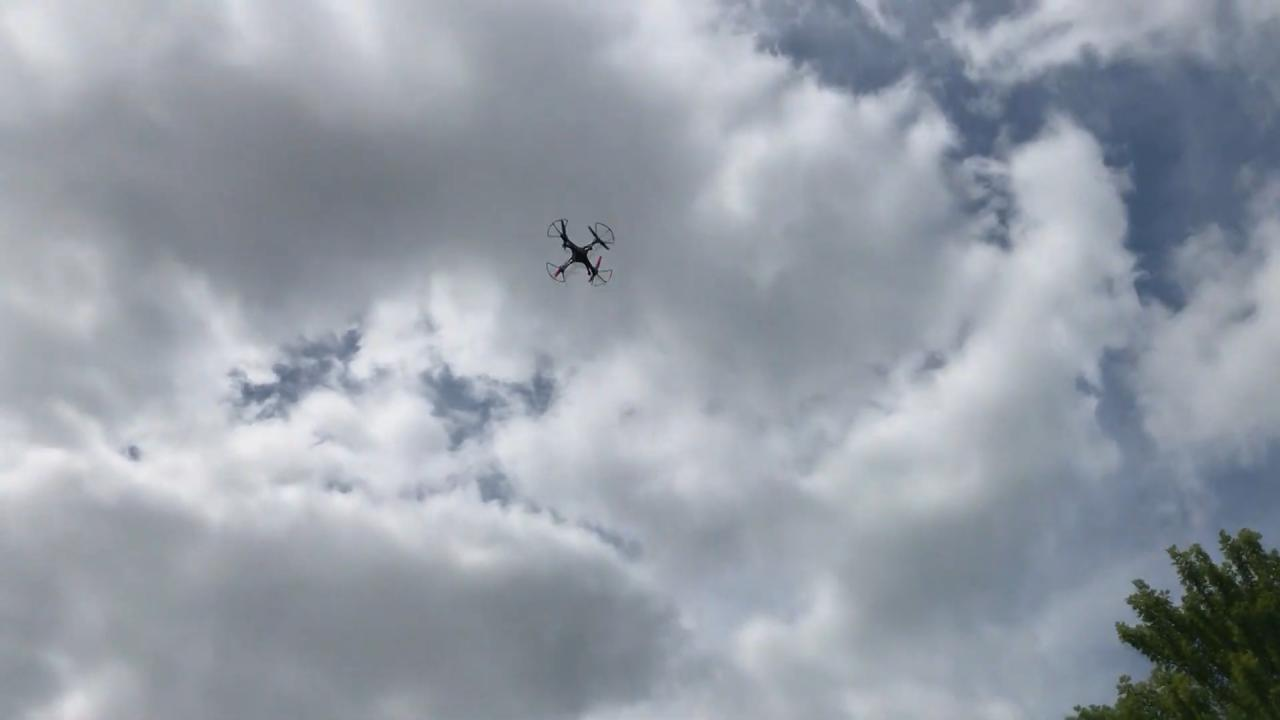Drone: (537, 209, 621, 295)
